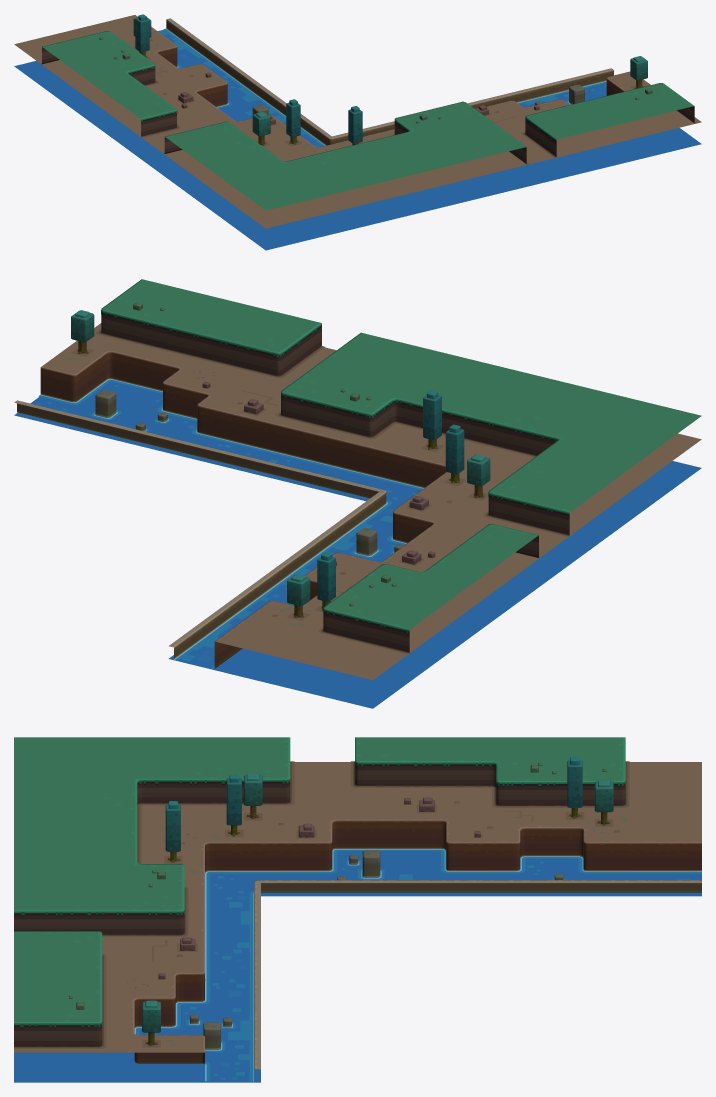
The model's file is C_water1_out_RU.fbx.
3 renders of one model, top to bottom at view 1: azimuth 30°, elevation 25°; view 2: azimuth 150°, elevation 25°; view 3: azimuth 270°, elevation 25°, orthographic. The views are drawn at different scales.
Parts seen in each view (by area): view 1: C_water1_out_RU; view 2: C_water1_out_RU; view 3: C_water1_out_RU.
Boxes of the visible parts, x1,y1,x2,y2 form: C_water1_out_RU: (14, 14, 701, 250); C_water1_out_RU: (14, 279, 701, 708); C_water1_out_RU: (14, 737, 701, 1082).
Size of the model in its own units: 117 by 16.47 by 117.
